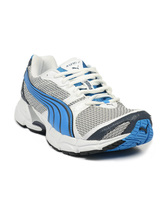shoes: (14, 46, 159, 161)
